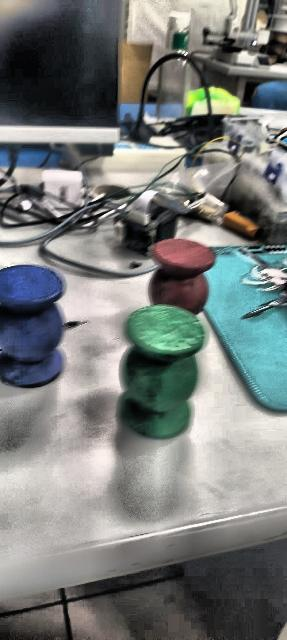blue: (0, 264, 68, 387)
green: (123, 305, 214, 435)
red: (148, 233, 212, 316)
